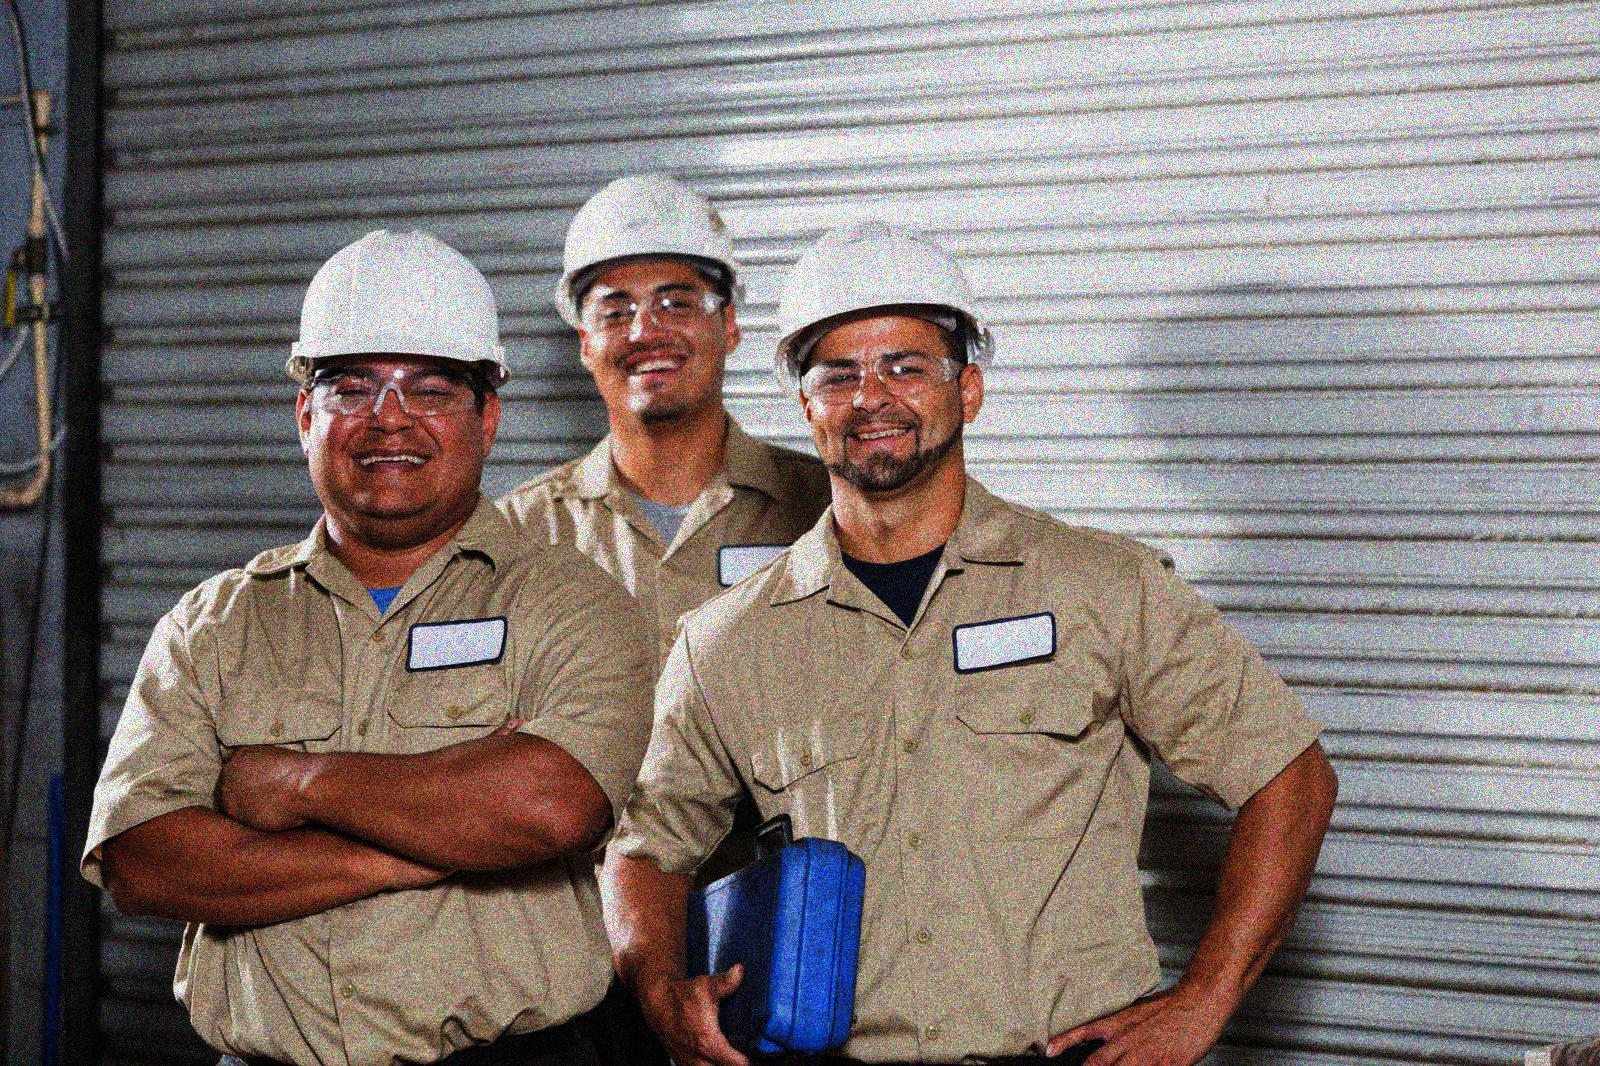helmet: (280, 224, 516, 531), (774, 218, 994, 498), (553, 173, 754, 418)
